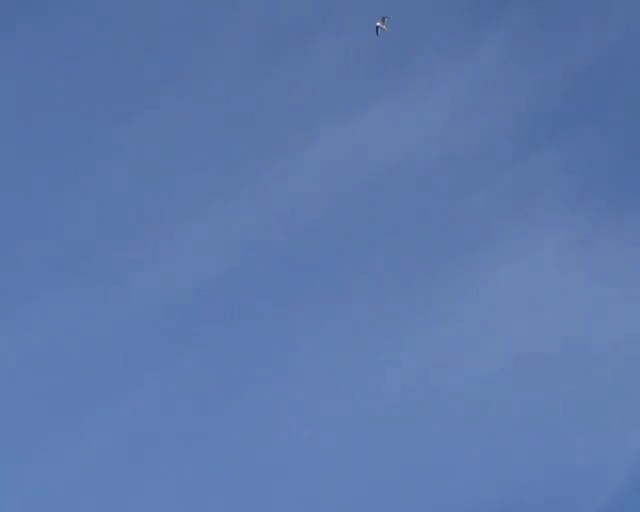BIRD: (374, 15, 390, 35)
